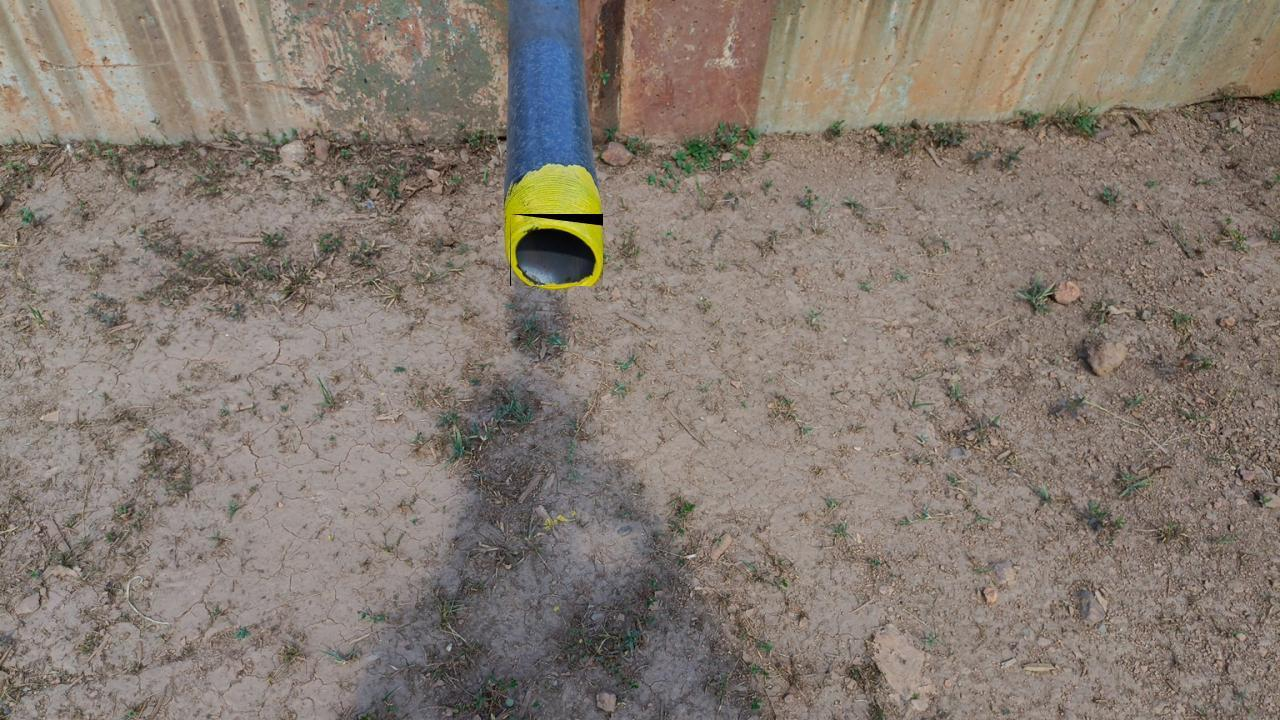pipe: (510, 214, 603, 286)
